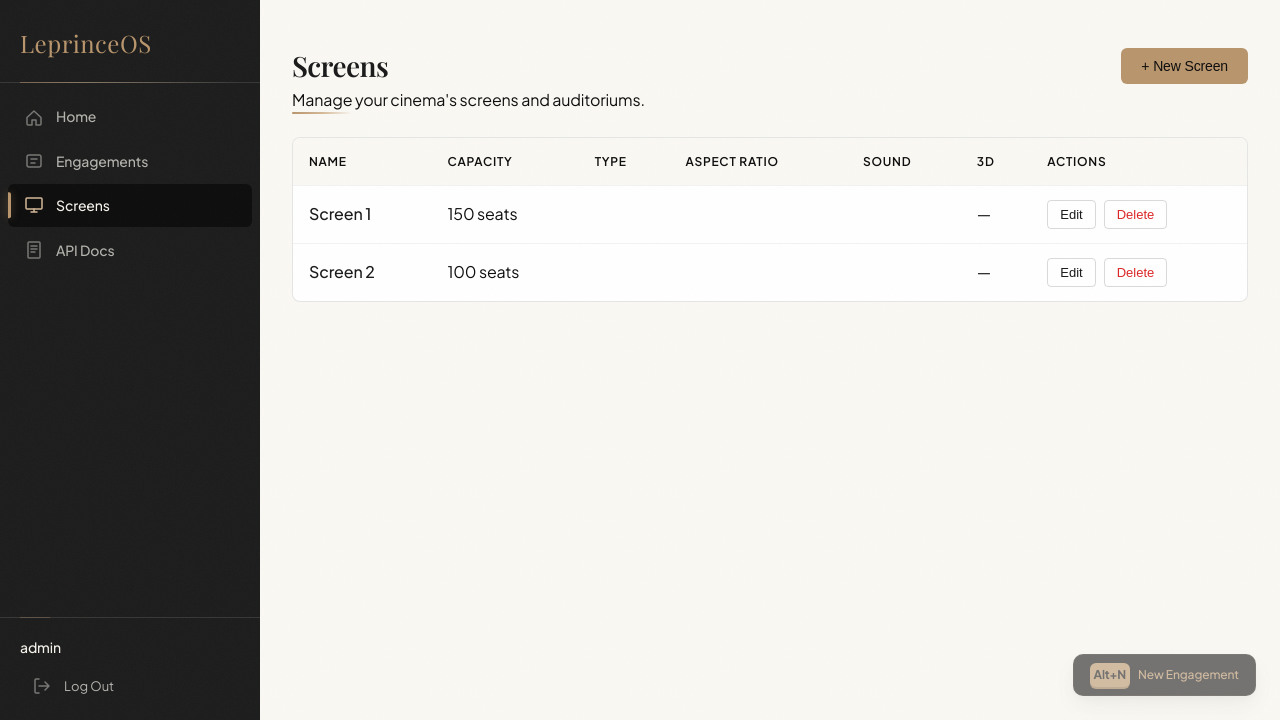
it: Screens CRUD Operations › Edit Screen › should update screen successfully
Step 1. Click the button "Edit" in the row of "Screen 1" → point(1071, 215), box [1047,200,1095,229]
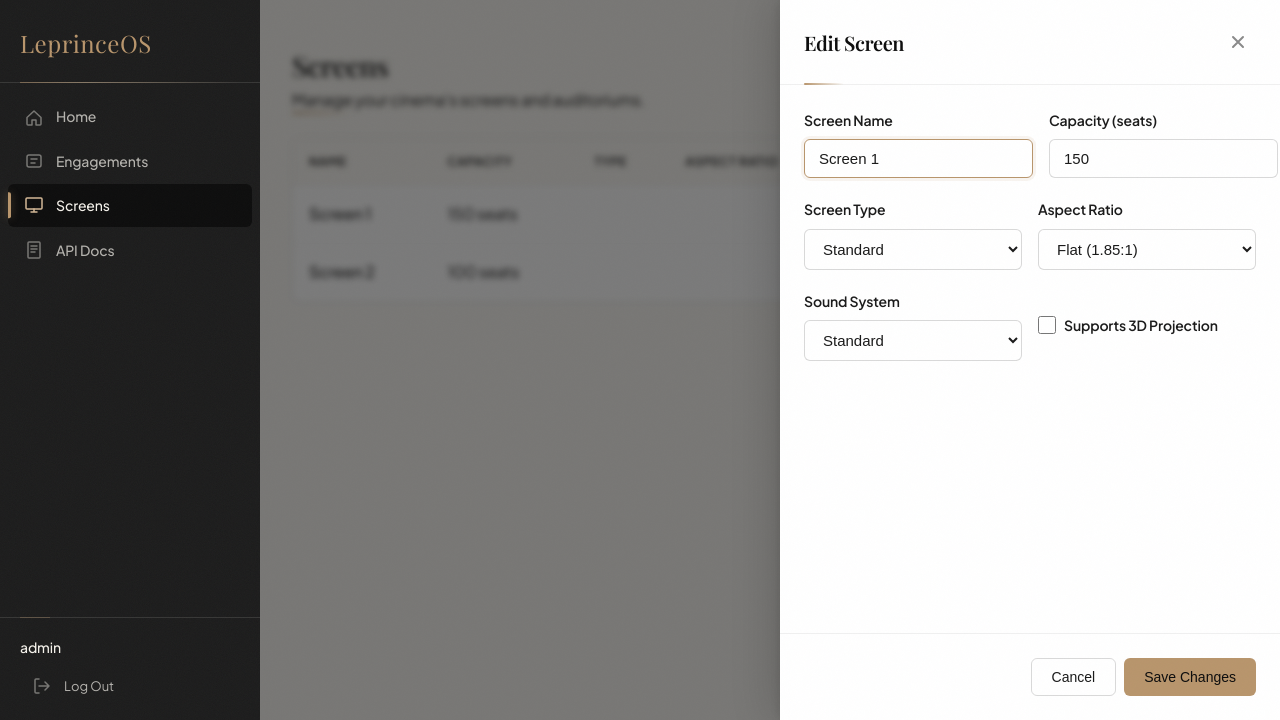
Step 2. Replace the text in the number field labelled "Capacity (seats)" with "175" → point(1164, 159), box [1049,139,1278,178]
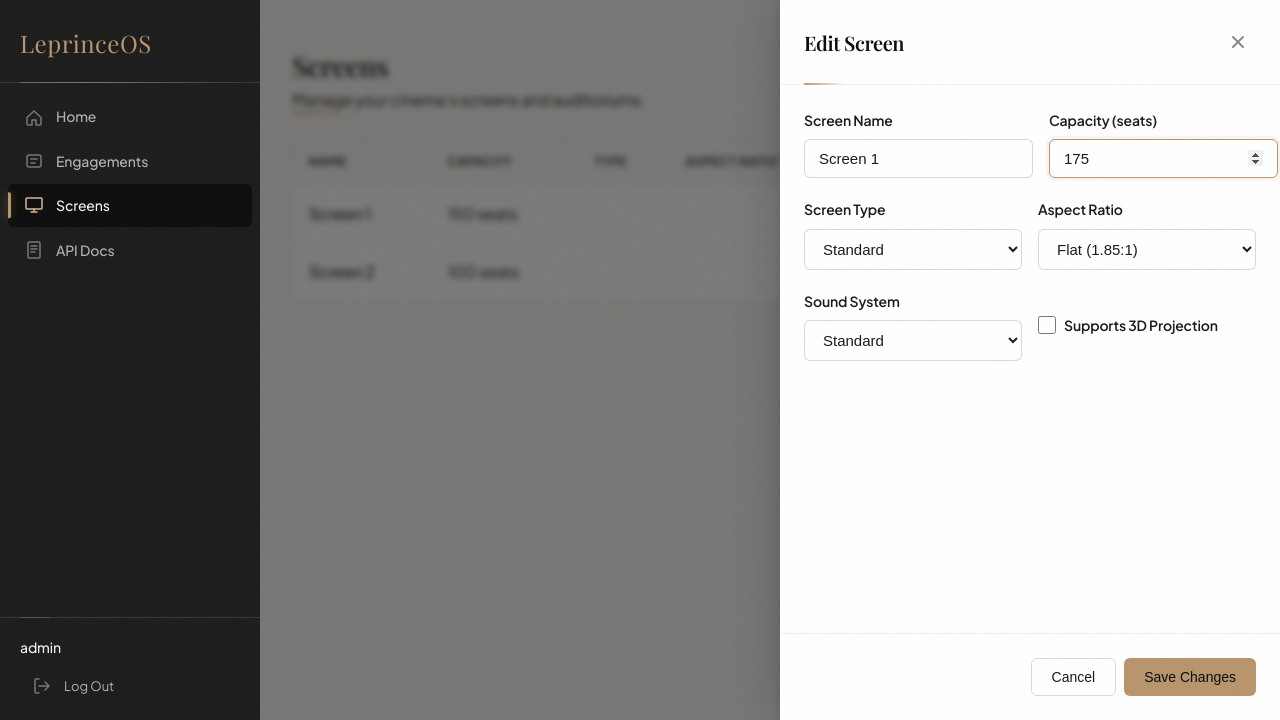
Step 3. Click the button "Save Changes" → point(1190, 677), box [1124,658,1256,696]
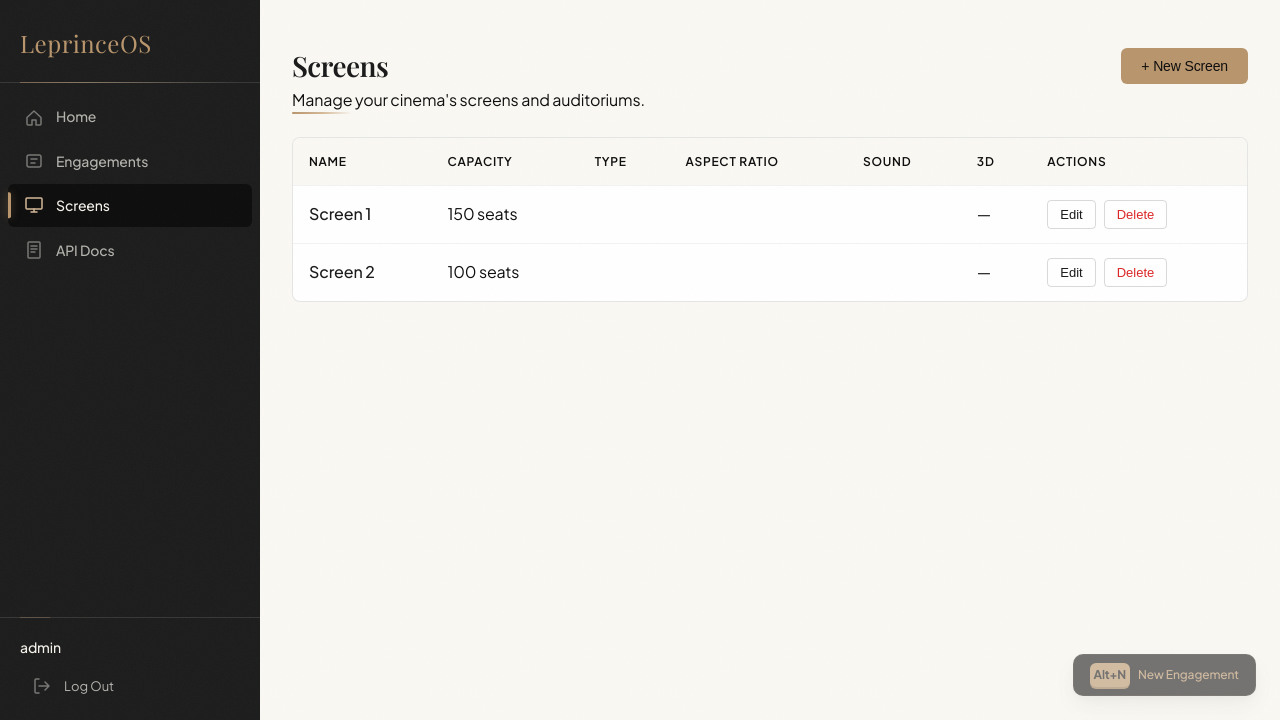
Result: the heading "Edit Screen" is gone
